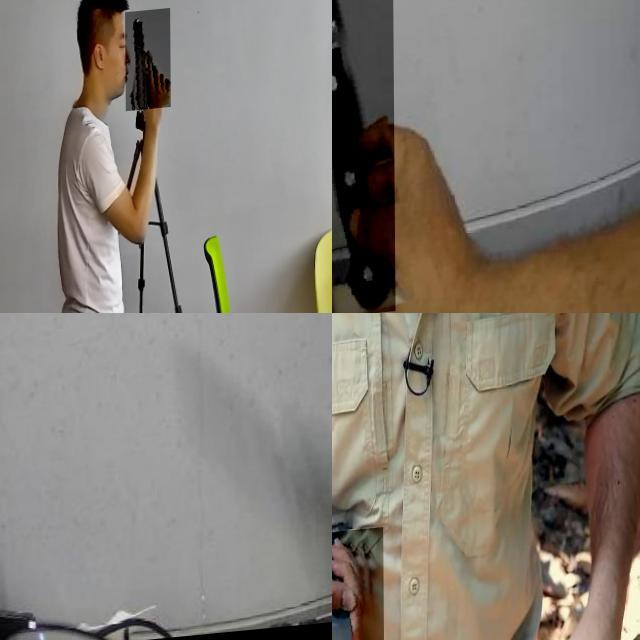-: (132, 313, 332, 429), (332, 0, 394, 313), (332, 533, 384, 640)
gun-knife-thesis - v11 Yolov5 augmented: (124, 15, 170, 116)
